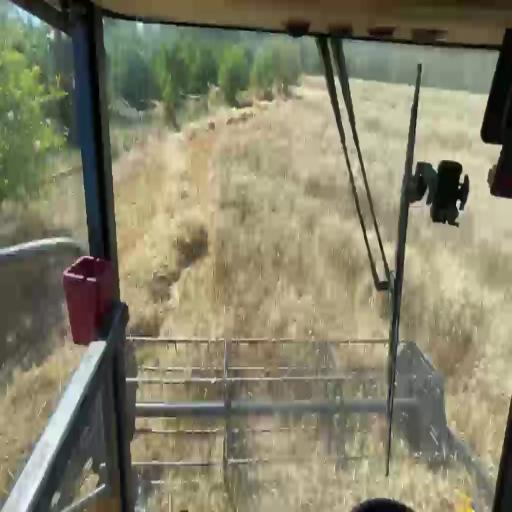arpa: (114, 77, 388, 339), (401, 204, 512, 378), (350, 78, 413, 267), (415, 87, 497, 173)
